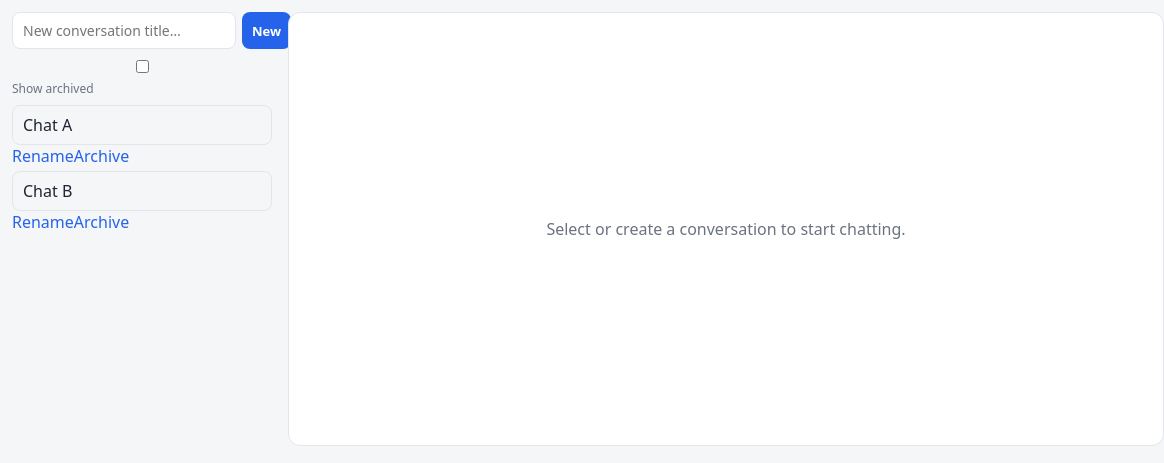
it: ChatConsolePage › switches conversations and swaps the rendered history
The image size is (1164, 463).
Expected: the button "Chat B" is shown, [12,171,272,211]
Click the button "Chat A": (48, 125) [12,105,272,145]
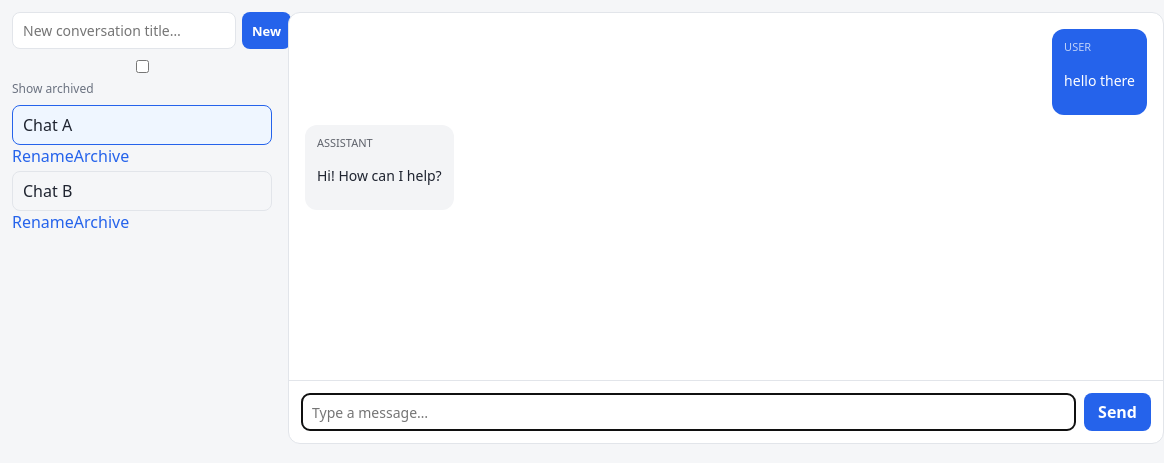
Now the text "hello there" is shown, box [1064,70,1135,90]
Click the button "Chat B": (48, 191) [12,171,272,211]
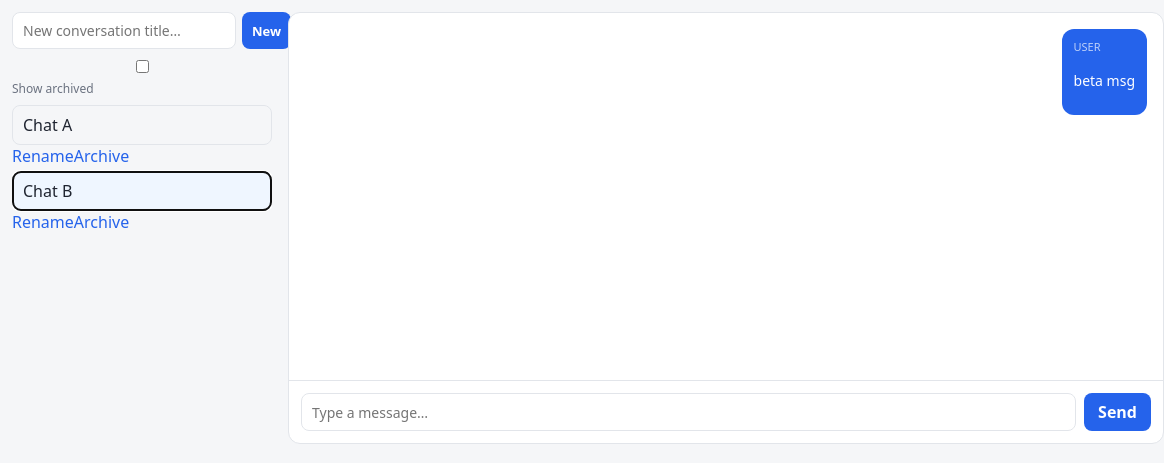
Now the text "beta msg" is shown, box [1074,70,1135,90]
Now the text "hello there" is gone
